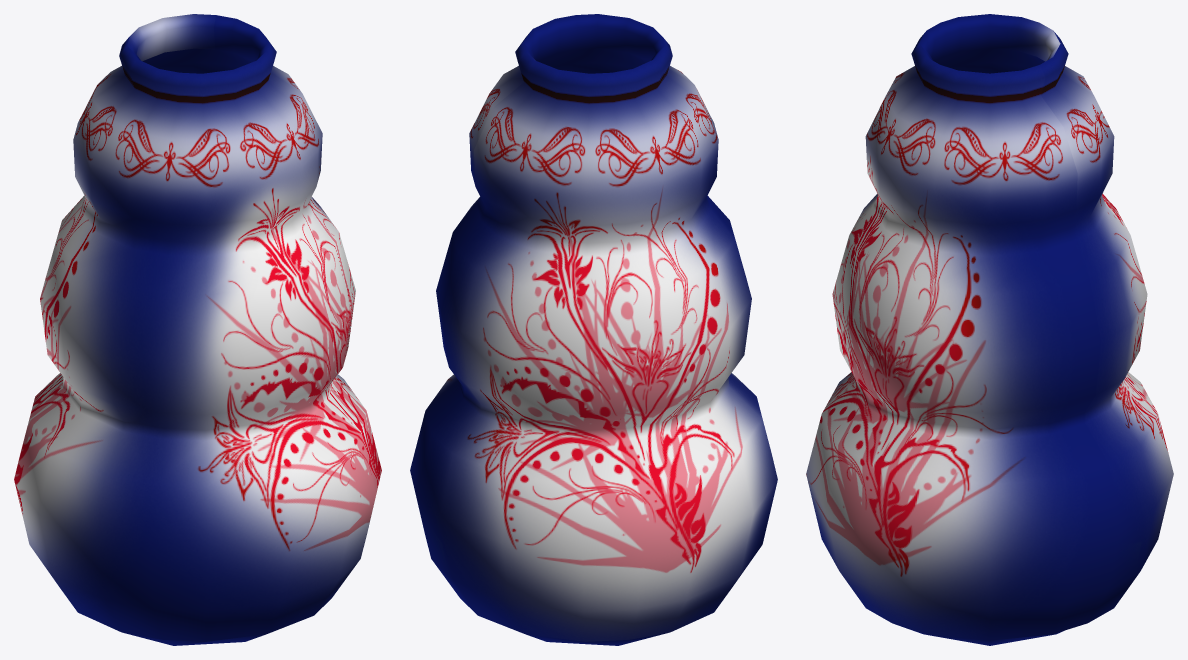
The model's file is JVase_15.fbx.
3 renders of one model, left to right at view 1: azimuth 30°, elevation 25°; view 2: azimuth 150°, elevation 25°; view 3: azimuth 270°, elevation 25°, orthographic.
Parts seen in each view (by area): view 1: JVase_15; view 2: JVase_15; view 3: JVase_15.
Part boxes in pixels (x1,y1,x2,y2): JVase_15: (14, 14, 381, 645); JVase_15: (410, 14, 777, 645); JVase_15: (806, 14, 1173, 645).
Bounding box in the file's own units: 58.58 × 98.85 × 58.58.
